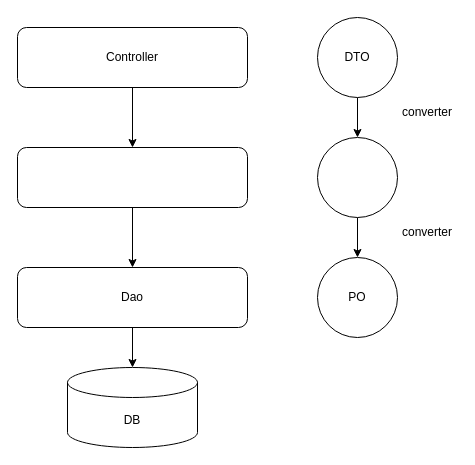
This 475x465 diagram has some shape labels left out. The shapes that lost their labels are listed below. From the top down, each one's box as (x1, y1, x2, y2) in pixels, then its label:
(16, 146, 248, 208): Service
(316, 136, 398, 218): BO
